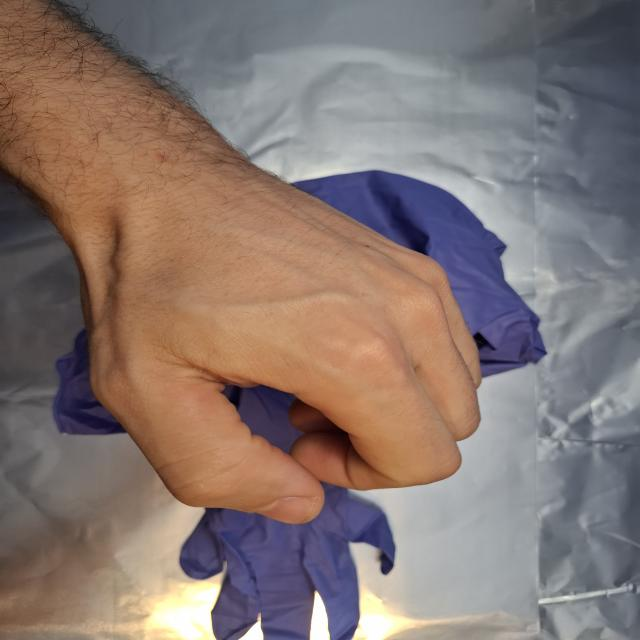glove_off: (80, 151, 484, 527)
